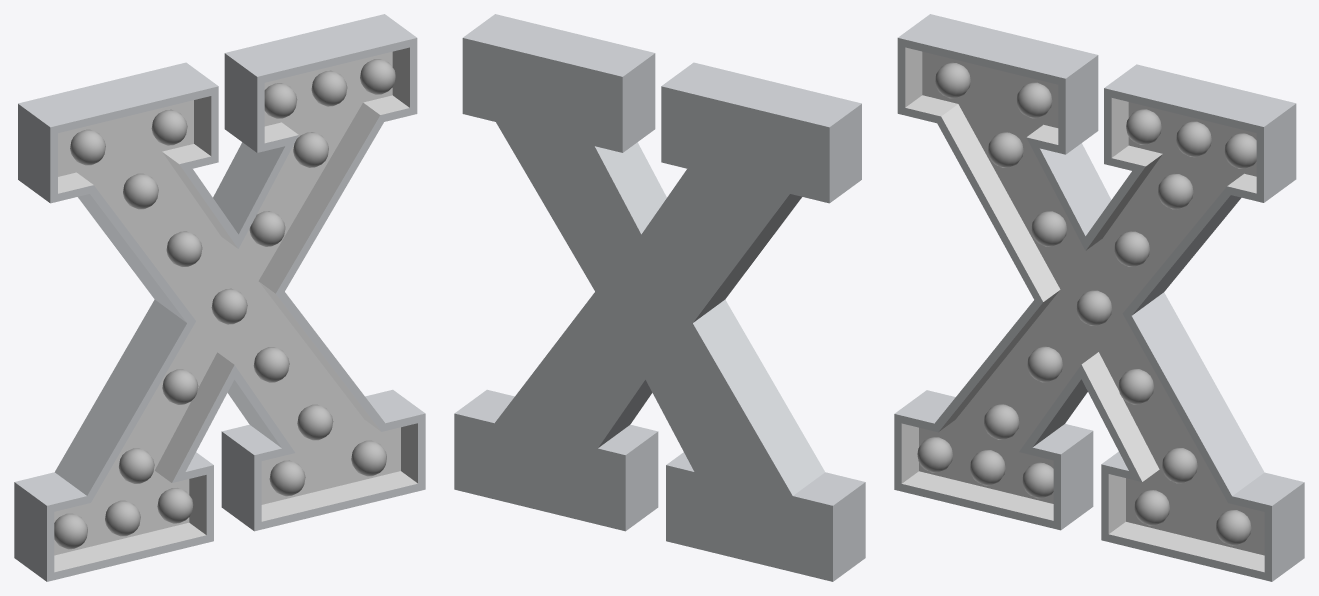
File: LettersBulb01_X.FBX
3 views of the same model, side by side, from view 1: azimuth 30°, elevation 25°; view 2: azimuth 150°, elevation 25°; view 3: azimuth 330°, elevation 25° (orthographic).
Visible parts, largest first — view 1: LettersBulb01_X; view 2: LettersBulb01_X; view 3: LettersBulb01_X.
Boxes of the visible parts, bbox=[...] form: LettersBulb01_X: bbox=[14, 14, 425, 581]; LettersBulb01_X: bbox=[454, 14, 865, 581]; LettersBulb01_X: bbox=[894, 14, 1304, 581].
Size of what is drawn, in the model's own units: 1.04 by 1.2 by 0.1563.
